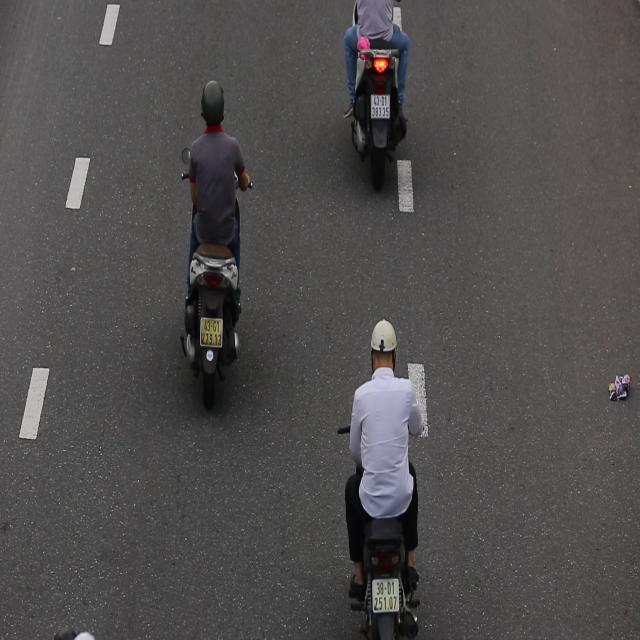motorbike: (337, 311, 437, 640), (179, 75, 256, 409)
